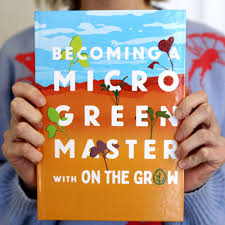book: (34, 8, 186, 222)
